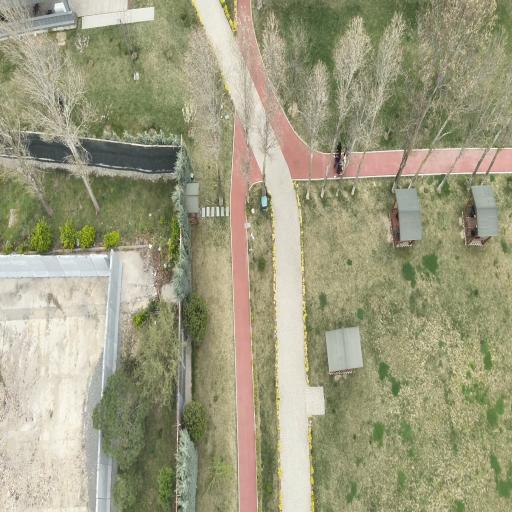person: (333, 142, 342, 174)
